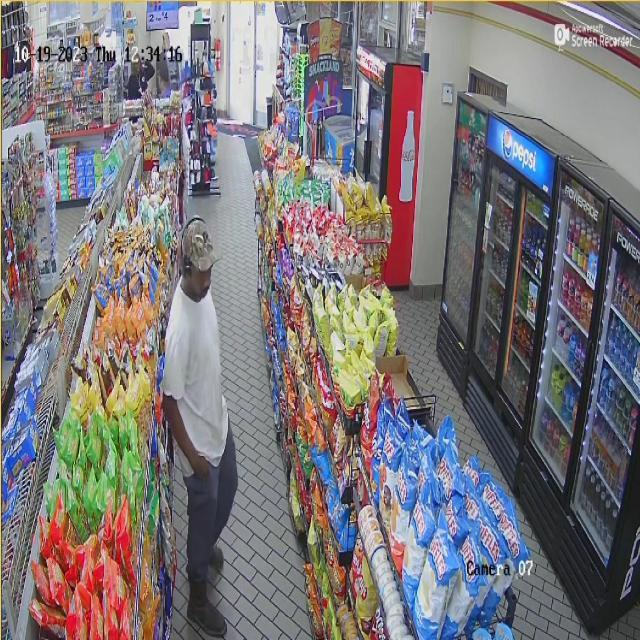normal: (161, 201, 239, 640)
